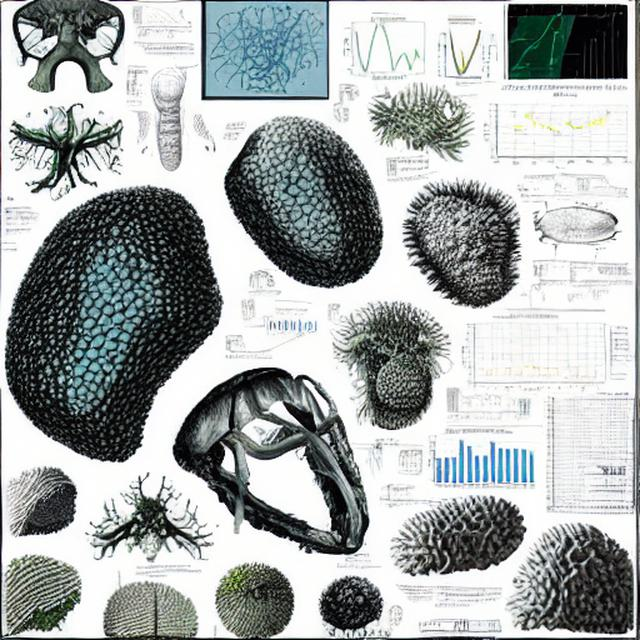Graph: (479, 83, 634, 174), (461, 314, 593, 395), (424, 429, 537, 493), (341, 12, 434, 82), (130, 1, 195, 40), (260, 308, 318, 343)
